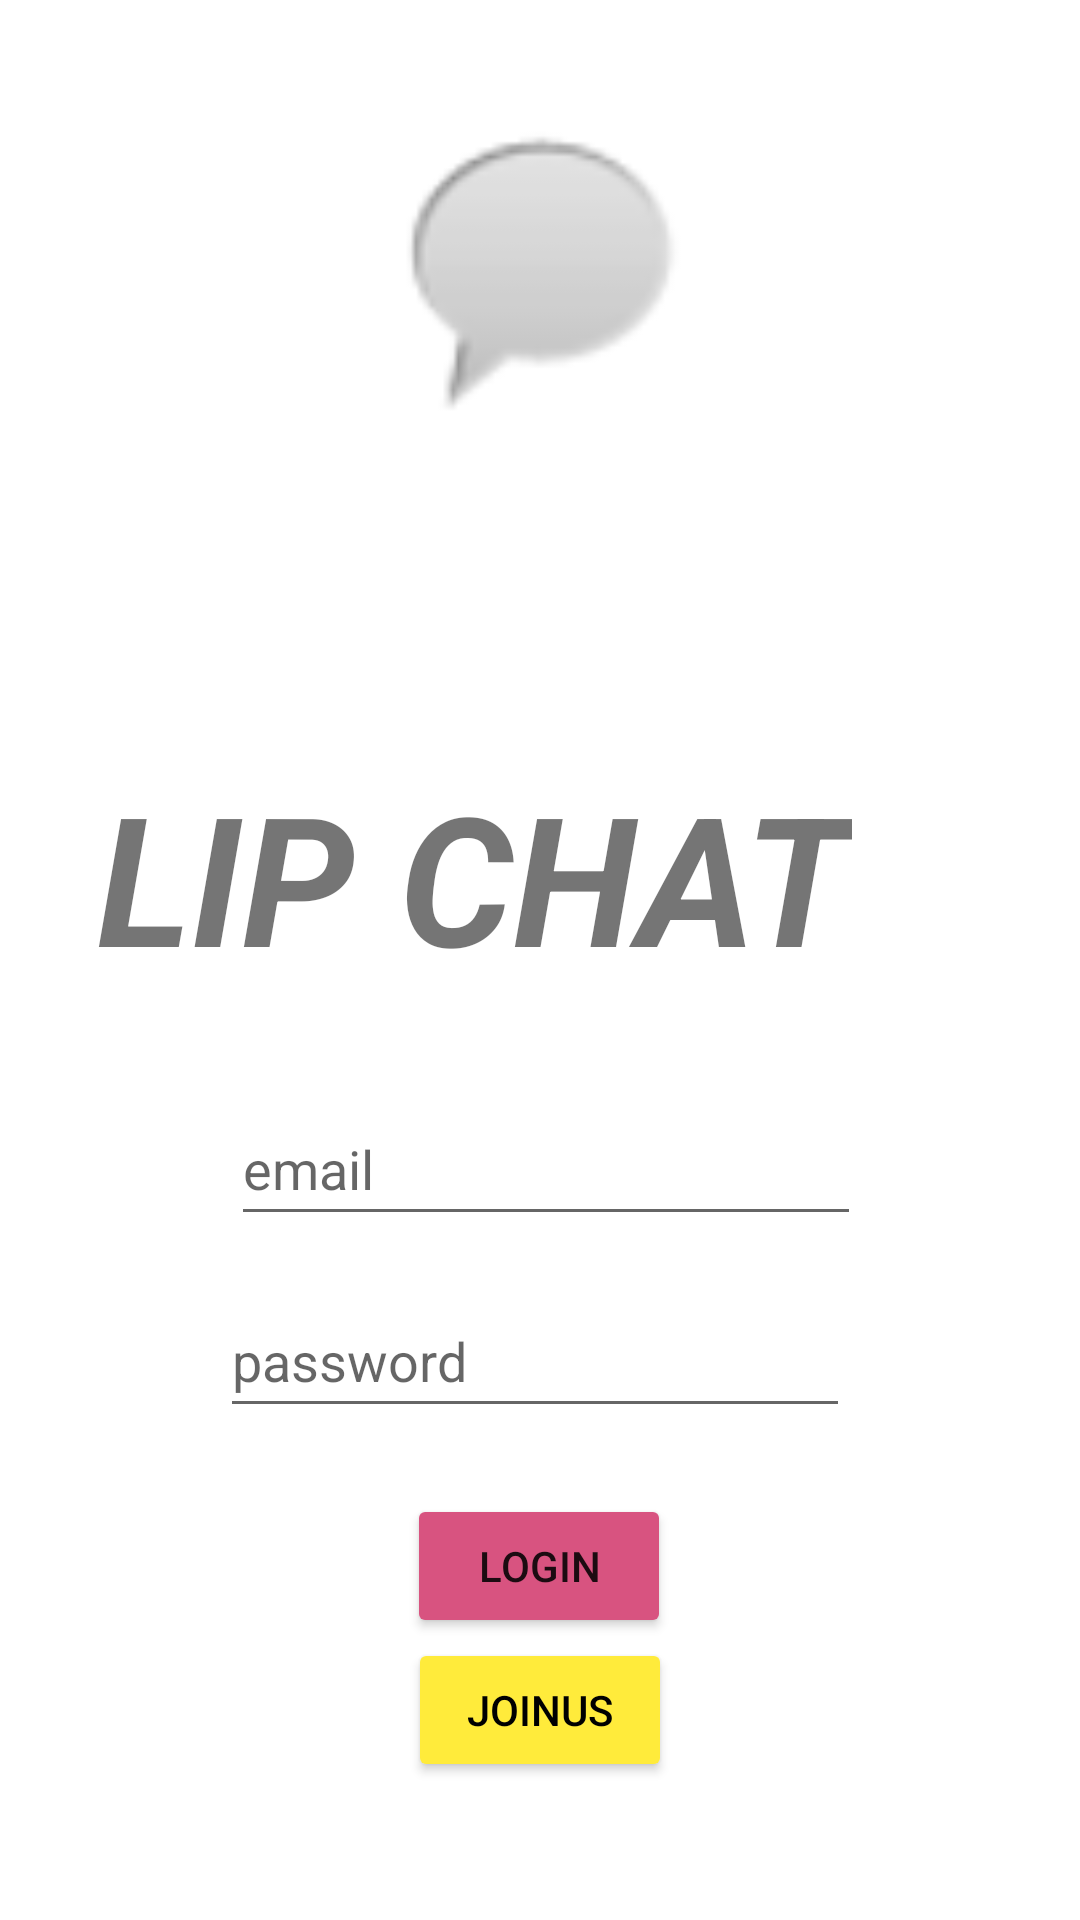

Icon bounding boxes for this 1080x1920 phone screenshot, format (x1, y1, x2, y2):
sym action chat: (411, 139, 668, 405)
